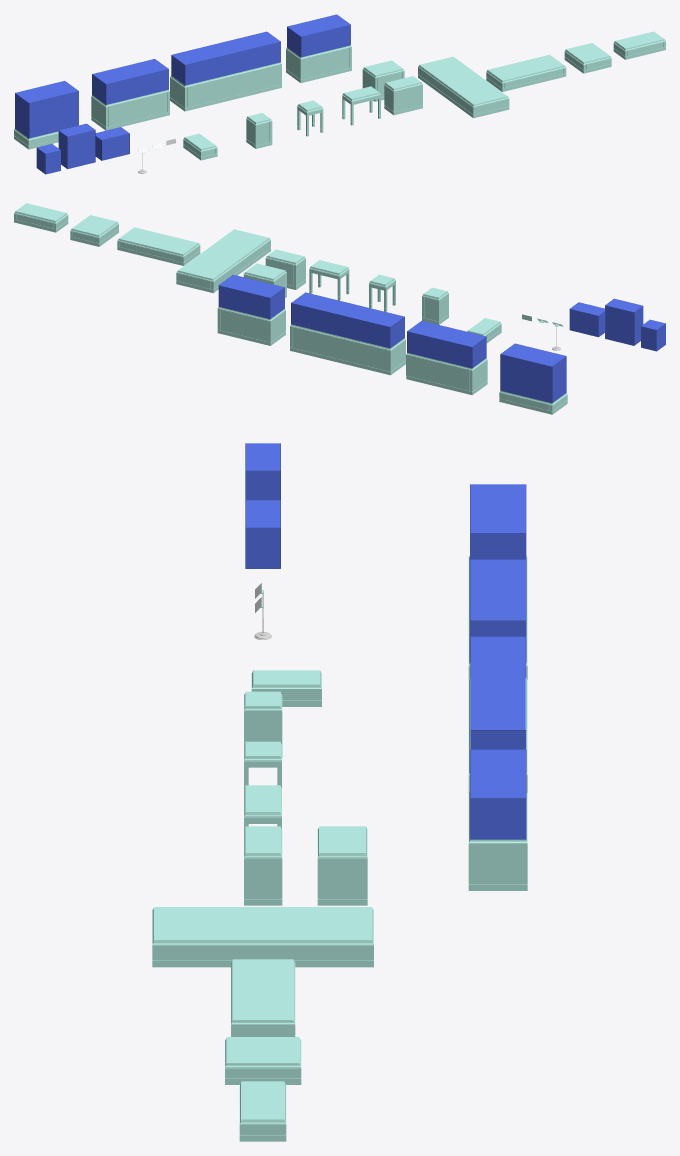
Rendered from Display Cases.fbx.
3 renders of one model, top to bottom at view 1: azimuth 30°, elevation 25°; view 2: azimuth 150°, elevation 25°; view 3: azimuth 270°, elevation 25°, orthographic. The views are drawn at different scales.
Visible parts, largest first — view 1: Glass_3_8, Display_Base_2, Glass_2, Display_3_8, Glass_2_5, Display_2_5, Glass_2_2, Display_2_6, Display_2_2_2, Glass_3, Display_A2, Display_2_7 (+9 smaller); view 2: Glass_3_8, Display_Base_2, Glass_2, Display_3_8, Glass_2_5, Display_2_5, Glass_2_2, Display_2_6, Display_2_2_2, Glass_3, Display_2_8, Display_2_7 (+9 smaller); view 3: Display_Base_2, Glass_3_8, Glass_2_2, Display_2_6, Glass_2_5, Glass_2, Display_A2_1, Display_2_7, Display_2_2_2, Display_A2, Display_2_8, Glass_2_2_2 (+5 smaller).
Part boxes in pixels (bbox=[...]): Glass_3_8: bbox=[171, 31, 280, 85]; Display_Base_2: bbox=[418, 56, 509, 118]; Glass_2: bbox=[15, 81, 78, 138]; Display_3_8: bbox=[170, 62, 281, 111]; Glass_2_5: bbox=[92, 59, 168, 104]; Display_2_5: bbox=[91, 89, 169, 130]; Glass_2_2: bbox=[287, 14, 350, 57]; Display_2_6: bbox=[486, 54, 566, 91]; Display_2_2_2: bbox=[286, 45, 351, 82]; Glass_3: bbox=[58, 123, 95, 169]; Display_A2: bbox=[384, 76, 422, 115]; Display_2_7: bbox=[564, 43, 611, 73]; Glass_3_8: bbox=[291, 292, 404, 348]; Display_Base_2: bbox=[176, 229, 270, 293]; Glass_2: bbox=[500, 343, 566, 403]; Display_3_8: bbox=[290, 324, 405, 375]; Glass_2_5: bbox=[407, 321, 486, 368]; Display_2_5: bbox=[406, 352, 487, 395]; Glass_2_2: bbox=[218, 274, 284, 319]; Display_2_6: bbox=[117, 227, 200, 265]; Display_2_2_2: bbox=[217, 306, 285, 345]; Glass_3: bbox=[605, 298, 643, 345]; Display_2_8: bbox=[14, 203, 68, 232]; Display_2_7: bbox=[70, 215, 118, 246]; Display_Base_2: bbox=[152, 907, 373, 967]; Glass_3_8: bbox=[470, 636, 525, 749]; Glass_2_2: bbox=[470, 749, 526, 839]; Display_2_6: bbox=[231, 959, 295, 1036]; Glass_2_5: bbox=[470, 559, 526, 661]; Glass_2: bbox=[470, 484, 526, 559]; Display_A2_1: bbox=[317, 826, 367, 905]; Display_2_7: bbox=[225, 1037, 301, 1084]; Display_2_2_2: bbox=[468, 791, 527, 890]; Display_A2: bbox=[244, 826, 282, 905]; Display_2_8: bbox=[239, 1081, 286, 1141]; Glass_2_2_2: bbox=[245, 500, 280, 568].
Size of the model in its own units: 2419 by 216 by 635.
